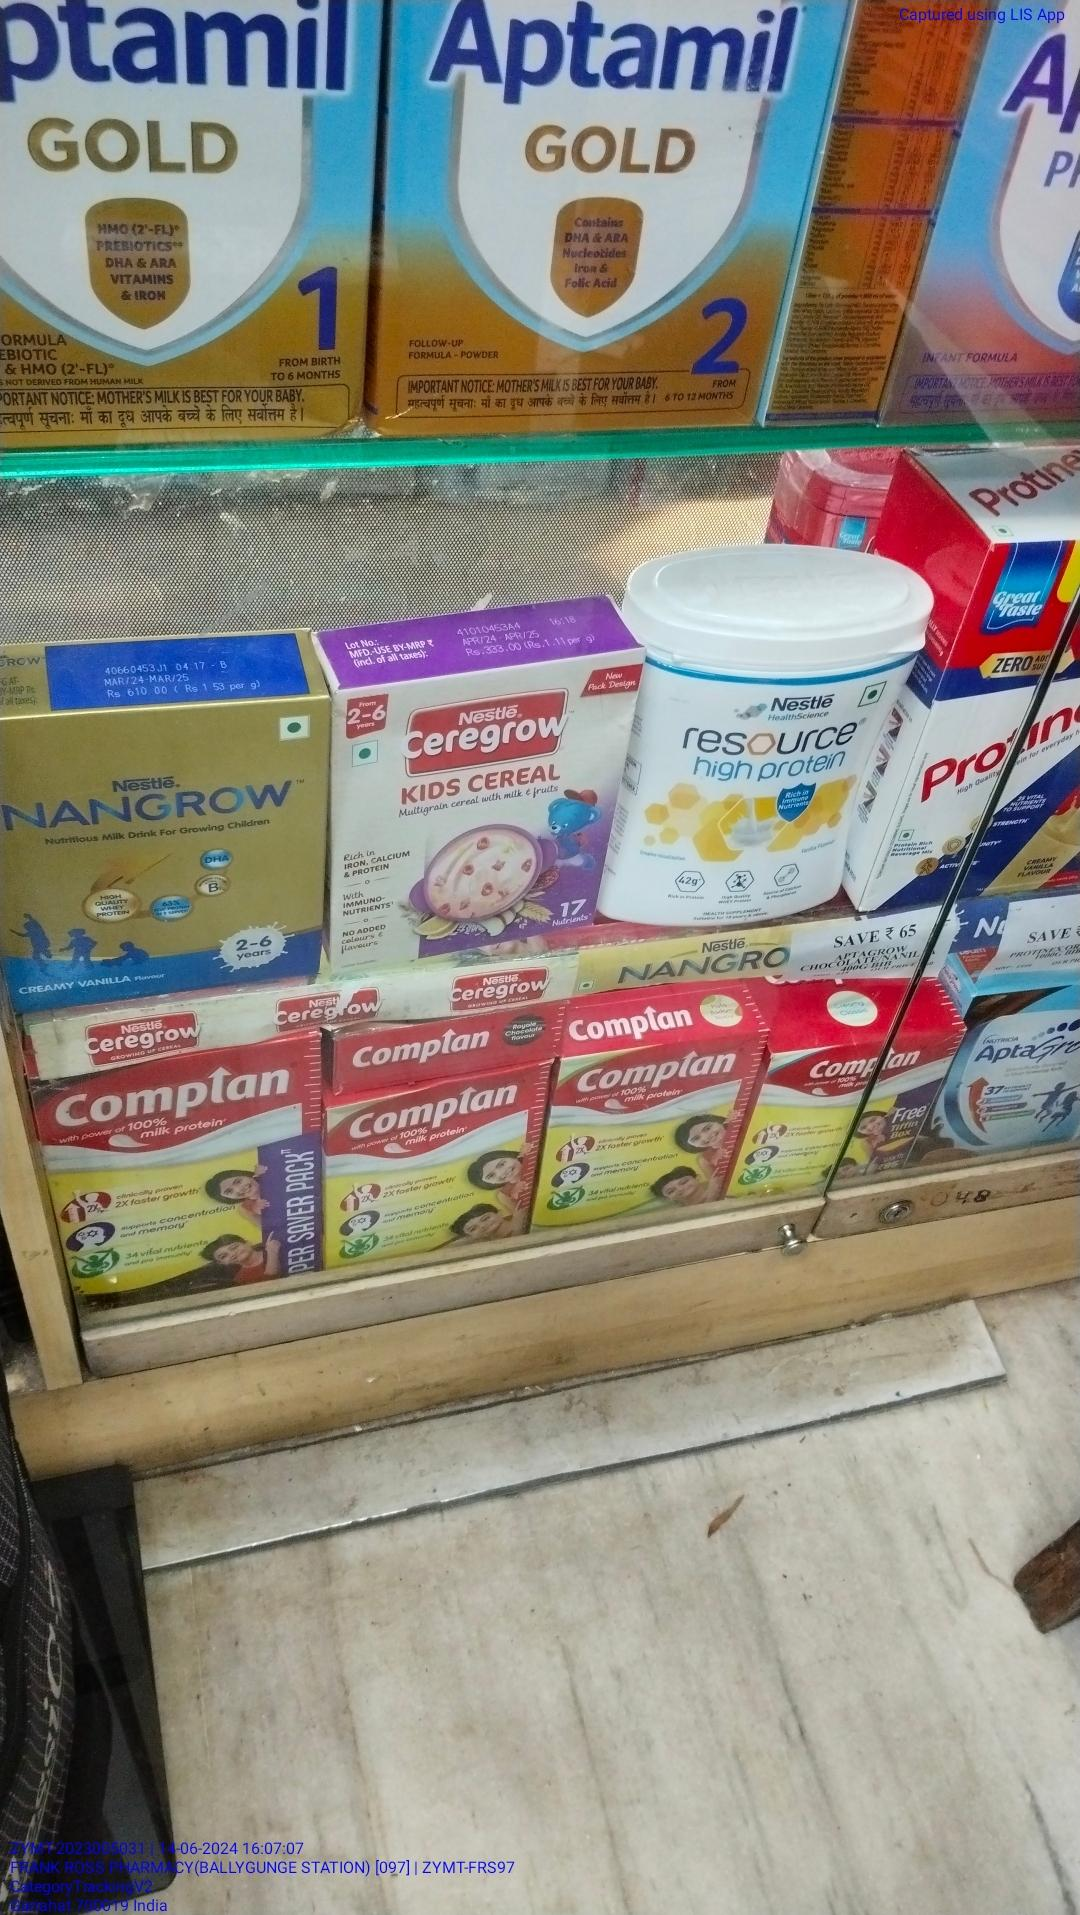COMPLAN_CHOCOLATE_1_KG_PACK: (33, 1059, 326, 1302)
COMPLAN_KESAR_BADAM_200_GMS_PACK: (545, 1040, 749, 1236), (329, 1080, 538, 1247)
